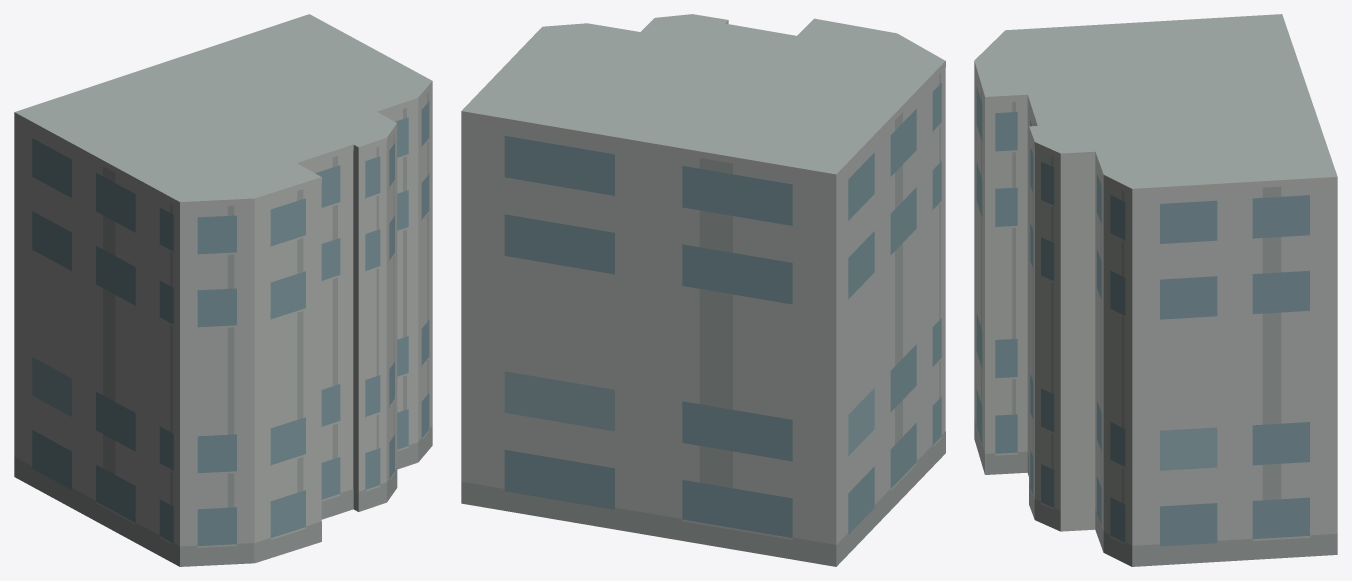
The model's file is survey-upis-32576957.glb.
The picture shows the model from 3 angles, left to right: view 1: azimuth 30°, elevation 25°; view 2: azimuth 150°, elevation 25°; view 3: azimuth 270°, elevation 25°; orthographic projection. The views are drawn at different scales.
Parts seen in each view (by area): view 1: survey-upis-32576957.tmp; view 2: survey-upis-32576957.tmp; view 3: survey-upis-32576957.tmp.
Part boxes in pixels (box(x1,y1,x2,y2)): survey-upis-32576957.tmp: box(14, 14, 432, 566); survey-upis-32576957.tmp: box(461, 14, 945, 566); survey-upis-32576957.tmp: box(974, 14, 1337, 566).
Bounding box in the file's own units: 14.31 × 14.42 × 12.57.
